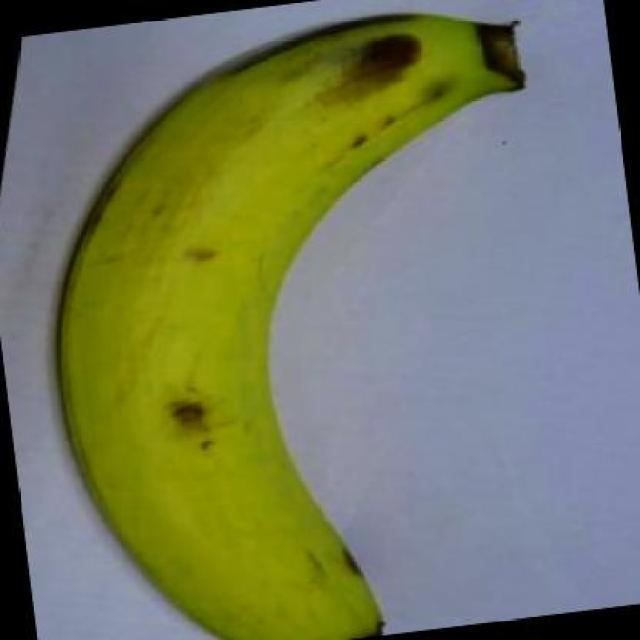ripe: (30, 7, 549, 640)
